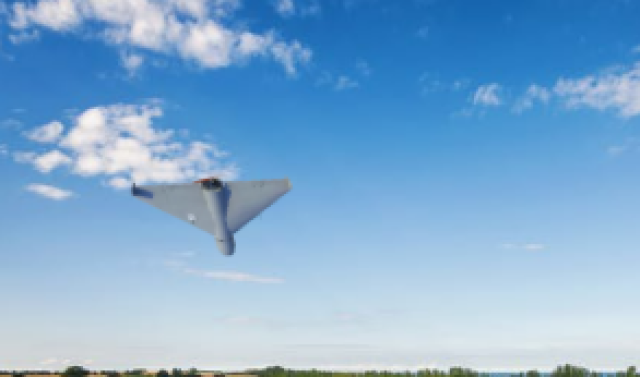military drone: (129, 175, 292, 256)
